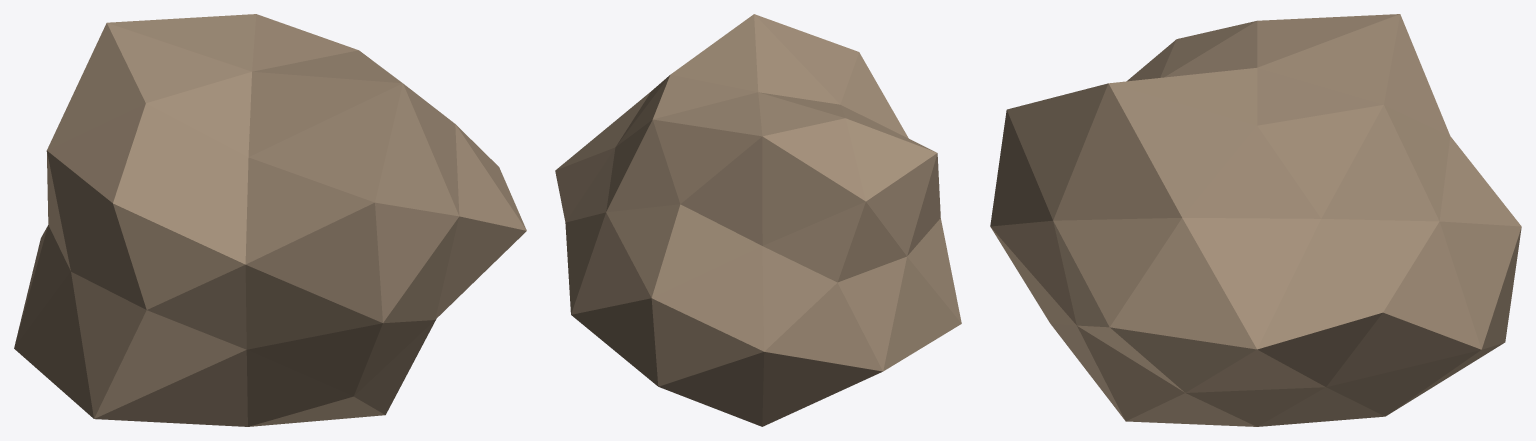
Rendered from rock-c.glb.
The picture shows the model from 3 angles, left to right: view 1: azimuth 30°, elevation 25°; view 2: azimuth 150°, elevation 25°; view 3: azimuth 270°, elevation 25°; orthographic projection. The views are drawn at different scales.
Visible parts, largest first — view 1: rock; view 2: rock; view 3: rock.
Boxes of the visible parts, x1=… form: rock: x1=14, y1=14, x2=526, y2=426; rock: x1=555, y1=14, x2=961, y2=426; rock: x1=990, y1=14, x2=1521, y2=426.
Size of the model in its own units: 1.29 by 0.9795 by 1.29.
